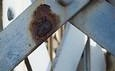Corrosion: (28, 3, 61, 46)
